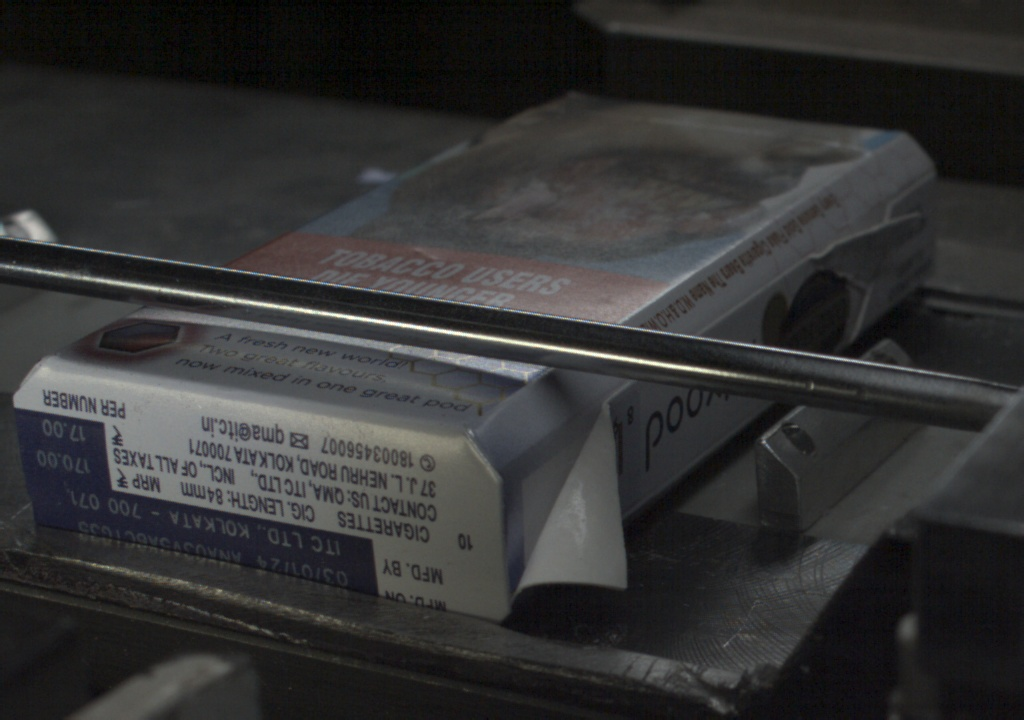g_bottom: (9, 365, 512, 619)
g_label: (21, 479, 376, 599)
g_lmiter: (704, 272, 786, 331)
g_miter: (883, 163, 942, 209)
ng_lmiter: (509, 391, 633, 592), (808, 213, 916, 265)
price: (23, 418, 108, 479)
